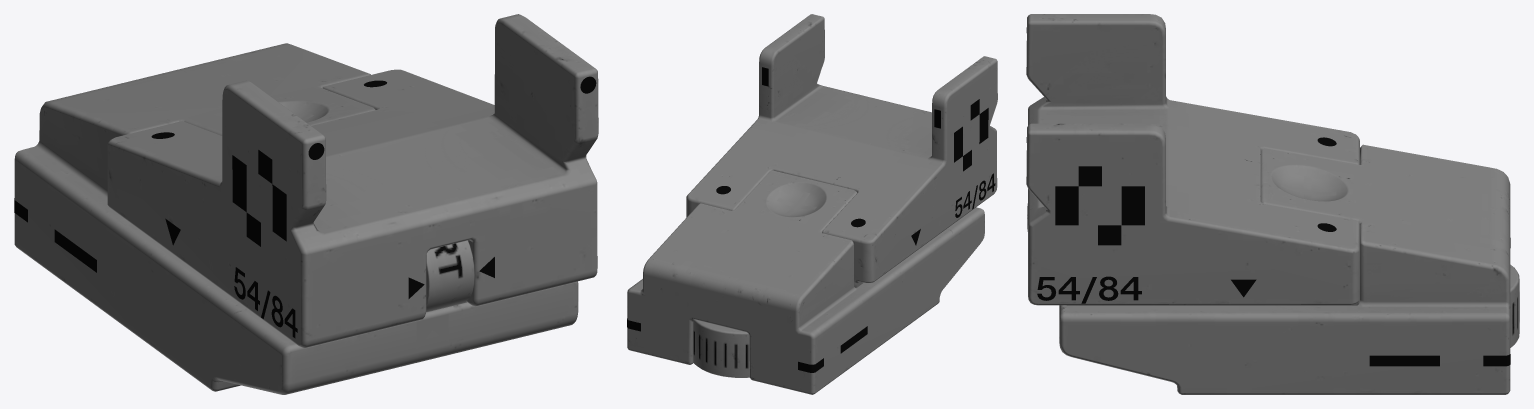
The model's file is mod_sight_default.glb.
3 views of the same model, side by side, from view 1: azimuth 30°, elevation 25°; view 2: azimuth 150°, elevation 25°; view 3: azimuth 270°, elevation 25° (orthographic). The views are drawn at different scales.
Parts seen in each view (by area): view 1: sight_auto_01, sight_auto_02, sight_auto_01_decals_01, sight_auto_03, sight_auto_02_decals_02; view 2: sight_auto_02, sight_auto_01, sight_auto_03, sight_auto_01_decals_01, sight_auto_02_decals_02; view 3: sight_auto_01, sight_auto_02, sight_auto_01_decals_01, sight_auto_02_decals_02, sight_auto_03.
Boxes of the visible parts, bbox=[...] form: sight_auto_01: bbox=[107, 14, 598, 347]; sight_auto_02: bbox=[14, 43, 578, 394]; sight_auto_01_decals_01: bbox=[151, 76, 596, 338]; sight_auto_03: bbox=[426, 240, 474, 311]; sight_auto_02_decals_02: bbox=[14, 61, 448, 349]; sight_auto_02: bbox=[627, 170, 984, 394]; sight_auto_01: bbox=[686, 14, 997, 287]; sight_auto_03: bbox=[693, 320, 749, 377]; sight_auto_01_decals_01: bbox=[716, 67, 995, 245]; sight_auto_02_decals_02: bbox=[627, 192, 920, 372]; sight_auto_01: bbox=[1026, 14, 1359, 305]; sight_auto_02: bbox=[1059, 144, 1510, 394]; sight_auto_01_decals_01: bbox=[1026, 27, 1336, 303]; sight_auto_02_decals_02: bbox=[1231, 176, 1510, 366]; sight_auto_03: bbox=[1027, 203, 1519, 347].
Size of the model in its own units: 0.0219 by 0.0225 by 0.038.
Materials: 5 (4 with a texture image).
